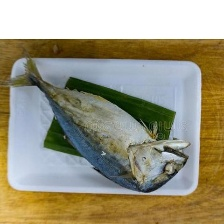foam_box: (3, 53, 206, 201)
